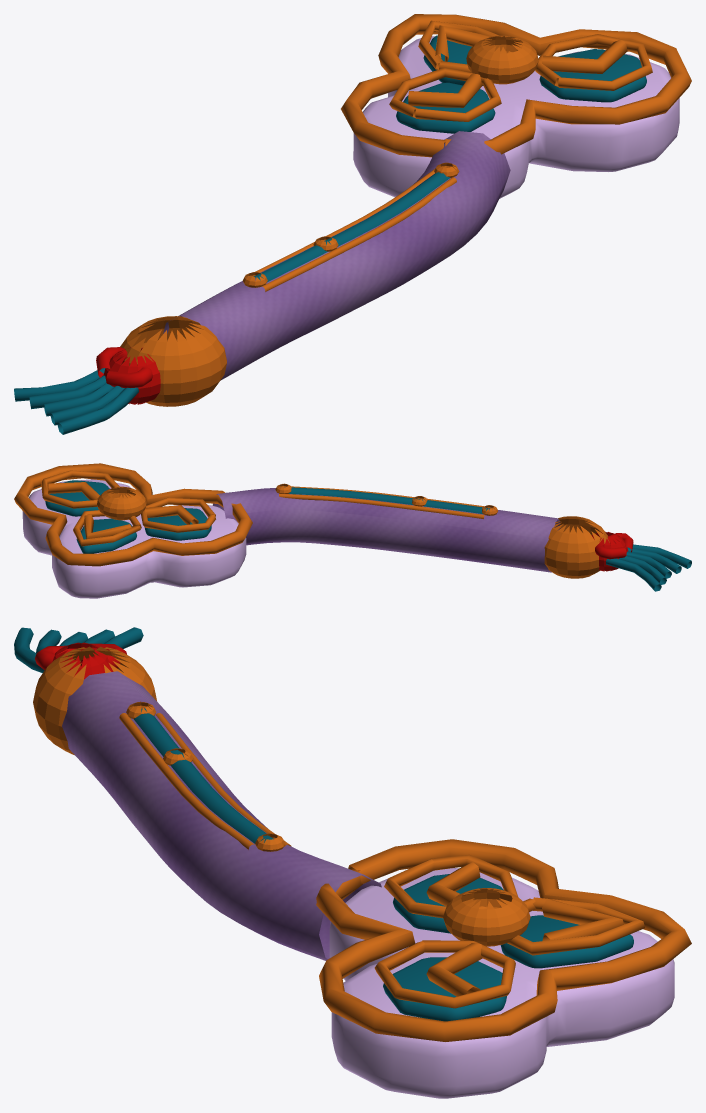
The model's file is ruyi.glb.
The picture shows the model from 3 angles, top to bottom: view 1: azimuth 30°, elevation 25°; view 2: azimuth 150°, elevation 25°; view 3: azimuth 270°, elevation 25°; orthographic projection. The views are drawn at different scales.
Visible parts, largest first — view 1: ruyi; view 2: ruyi; view 3: ruyi.
Boxes of the visible parts, x1,y1,x2,y2 form: ruyi: (14, 14, 691, 434); ruyi: (14, 463, 691, 598); ruyi: (14, 627, 691, 1098).
Size of the model in its own units: 1 by 0.1423 by 0.6115.
1 material, 1 textured.
